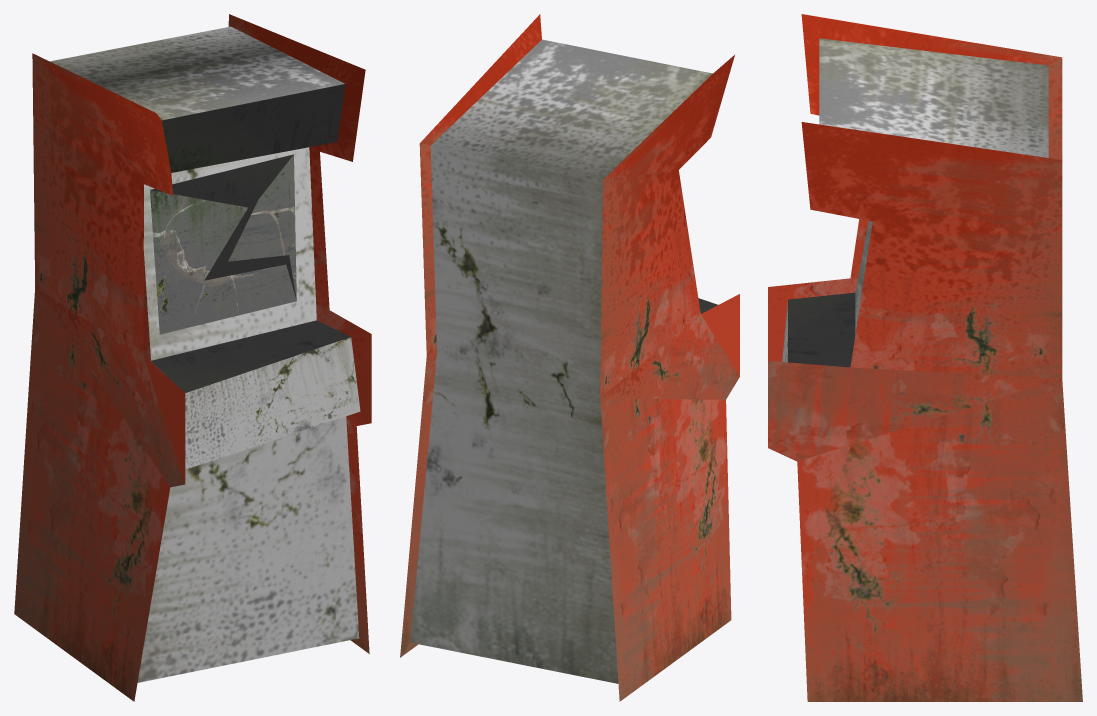
File: arcade_machine.fbx
3 renders of one model, left to right at view 1: azimuth 30°, elevation 25°; view 2: azimuth 150°, elevation 25°; view 3: azimuth 270°, elevation 25°, orthographic. The views are drawn at different scales.
Parts seen in each view (by area): view 1: arcade_machine; view 2: arcade_machine; view 3: arcade_machine.
Part boxes in pixels (<box>): arcade_machine: <box>14,14,371,701</box>; arcade_machine: <box>400,14,739,701</box>; arcade_machine: <box>768,14,1082,701</box>.
Bounding box in the file's own units: 0.3606 × 0.9115 × 0.4452.
